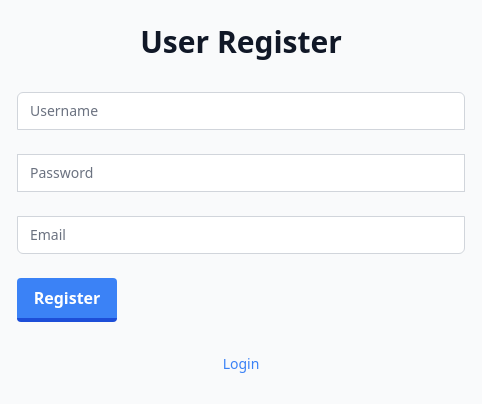
Test: Register Component › displays an error message when registration fails due to an existing email
The image size is (482, 404).
Type "uniqueUsername" into the field with placeholder "Username". click: x=241, y=111
box: [17, 92, 465, 130]
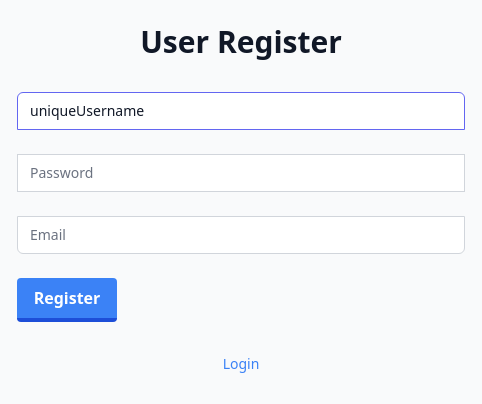
Type "password123" into the password field with placeholder "Password". click: x=241, y=173
box: [17, 154, 465, 192]
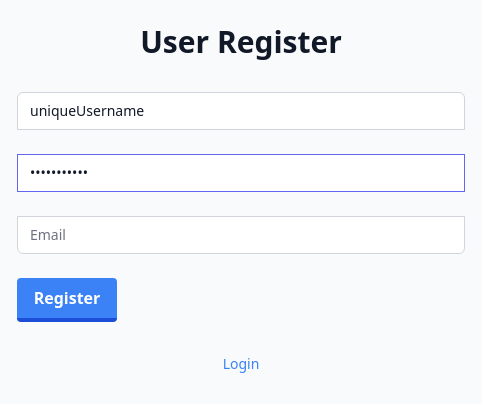
Type "existing@example.com" into the field with placeholder "Email". click: x=241, y=235
box: [17, 216, 465, 254]
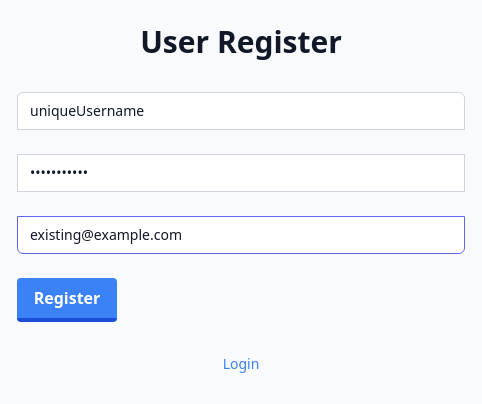
Click the button "Register". click: x=67, y=300
box: [17, 278, 117, 322]
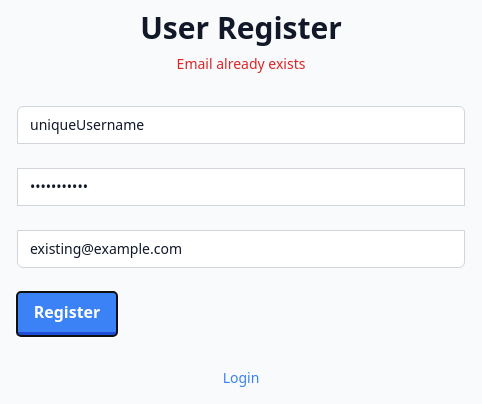
Check: the text "Email already exists" is shown, box [177, 54, 305, 73]
